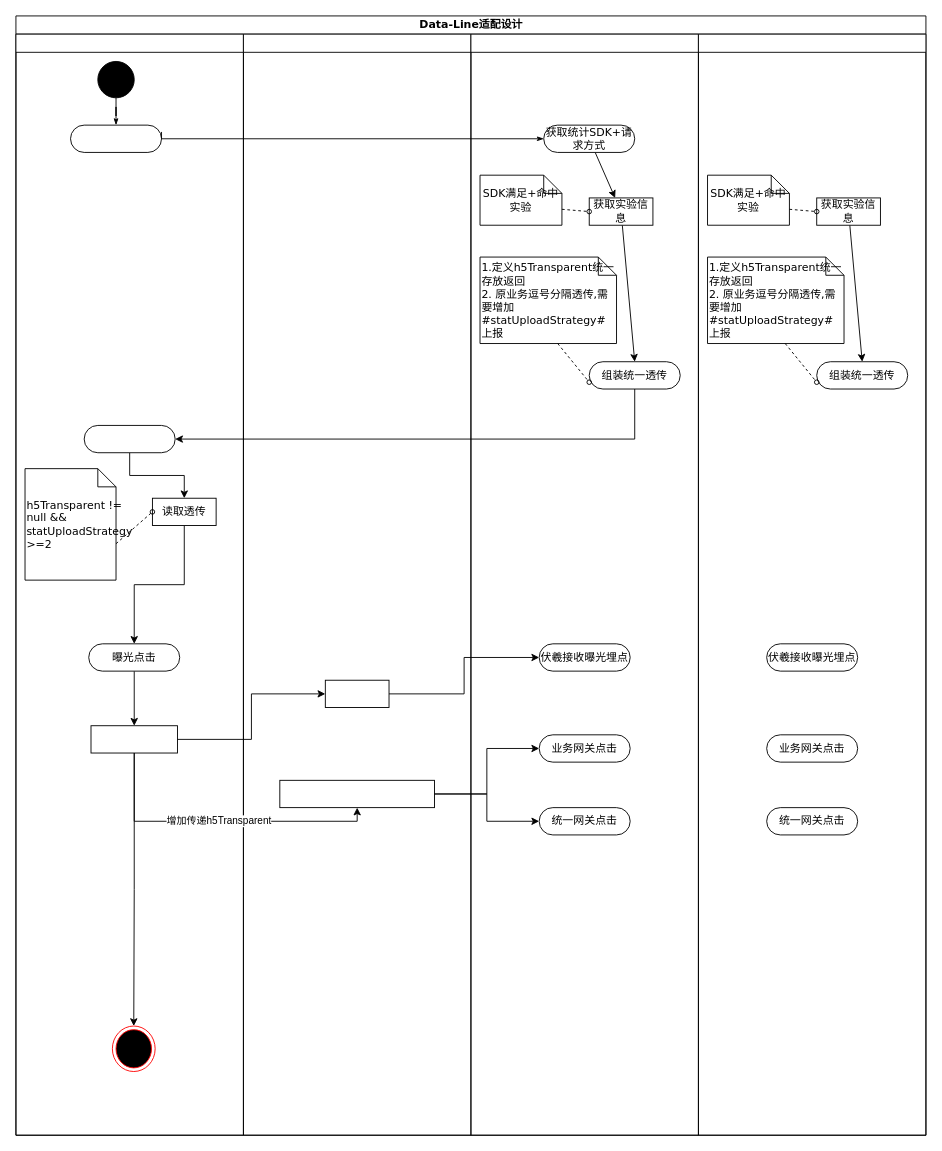
The diagram is 942 pixels wide and 1151 high, and some of its shapes have lost their labels. Each missing label, with the box of its shape:
Data-Line: (698, 33, 926, 1135)
http请求广告: (70, 124, 162, 152)
MQ Consumer: (15, 33, 243, 1135)
Universal-Data-Line: (470, 33, 698, 1135)
传递统一透传: (90, 725, 177, 753)
双通道上报: (324, 679, 389, 708)
实验系统: (243, 33, 471, 1135)
接收响应体: (83, 425, 175, 453)
生成点击ID,双通道上报点击: (279, 779, 435, 808)
